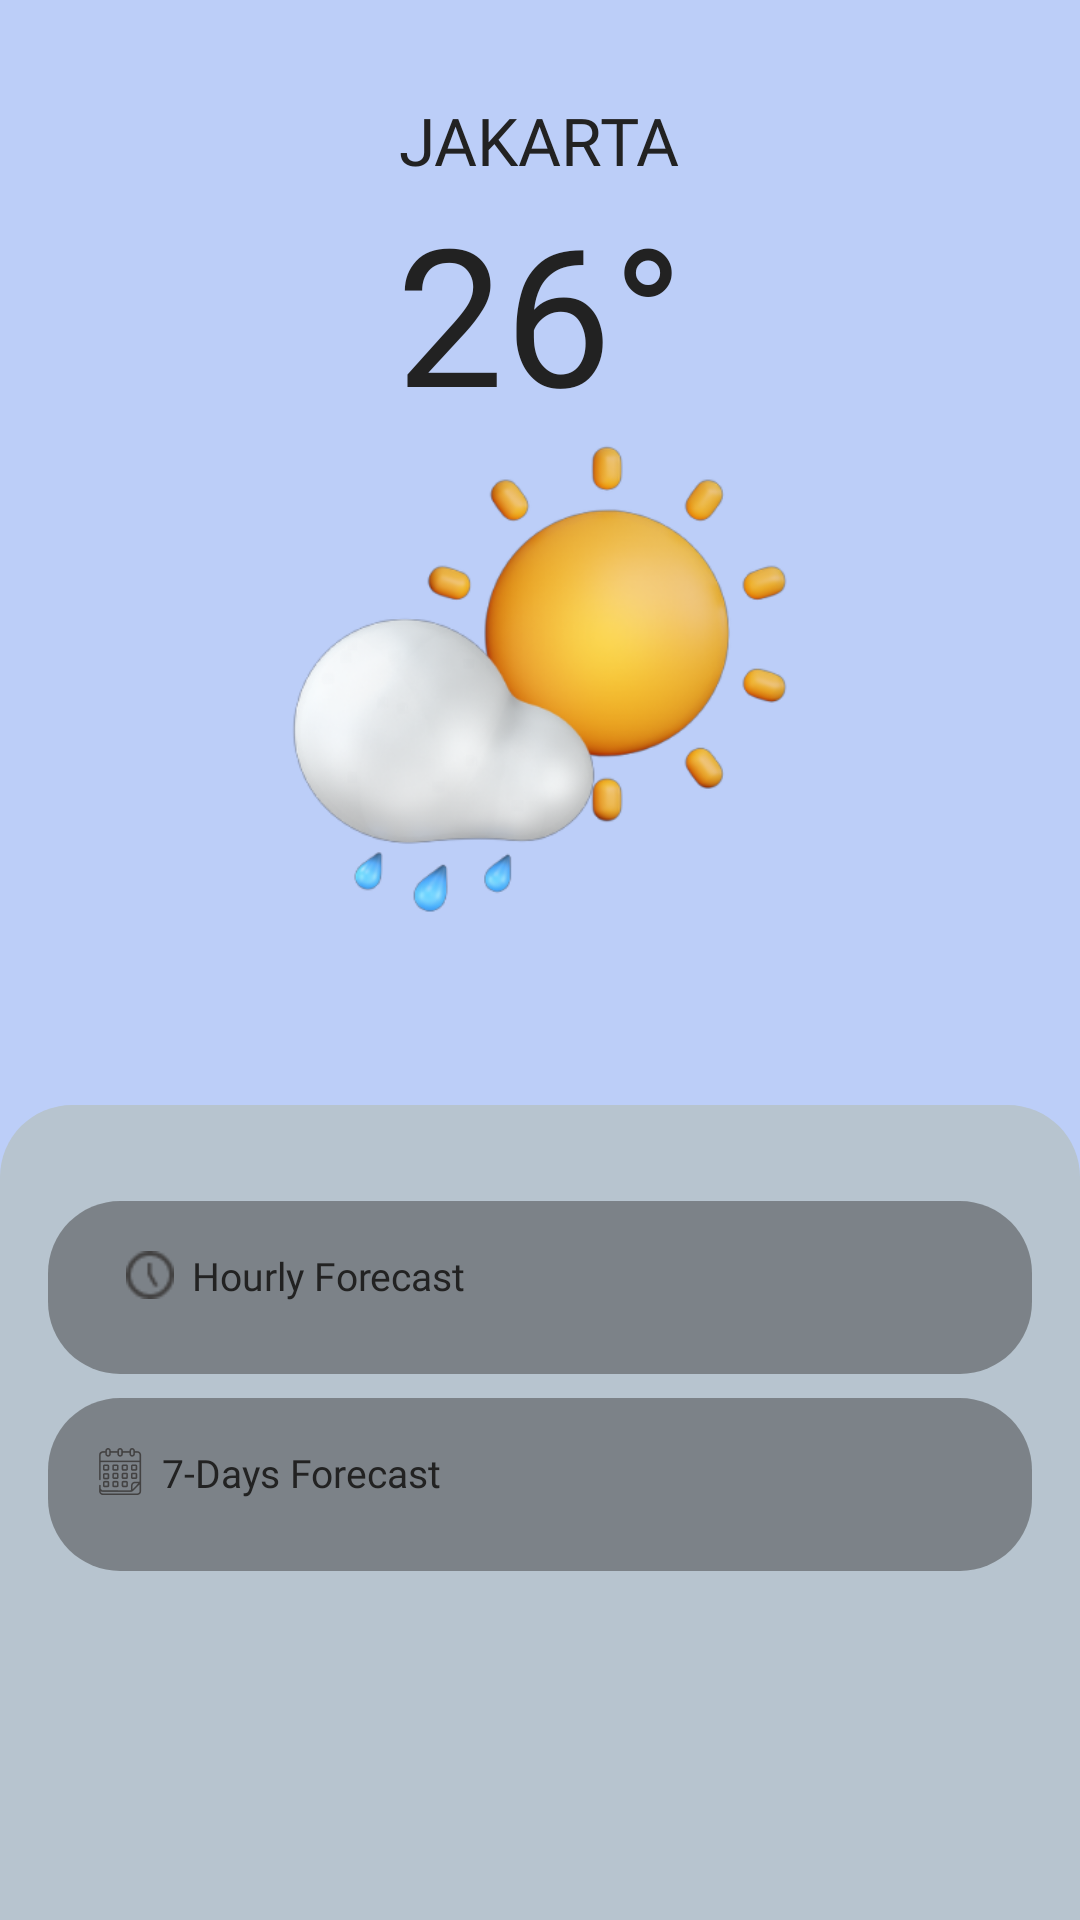

Icons on this 1080px x 1920px Android screen, each with the point to tap as [x,y]:
calendar: [120,1471]
clock: [150,1275]
